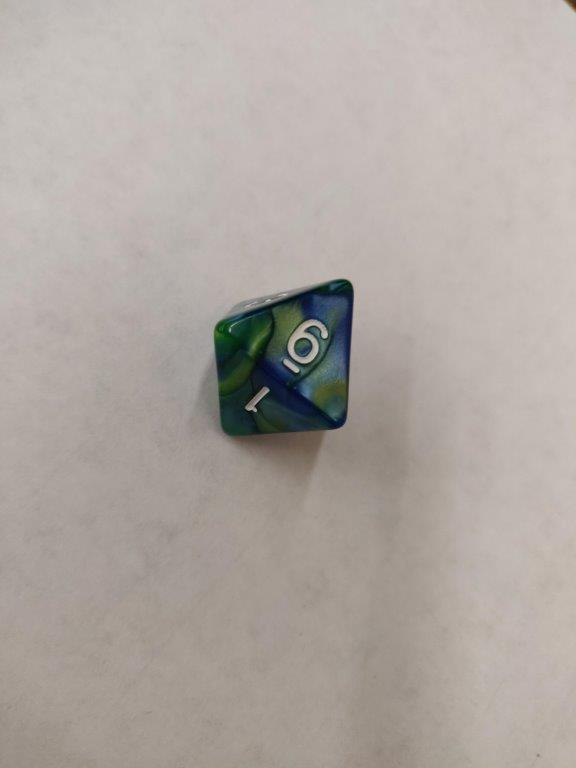d8-6: (212, 263, 357, 440)
